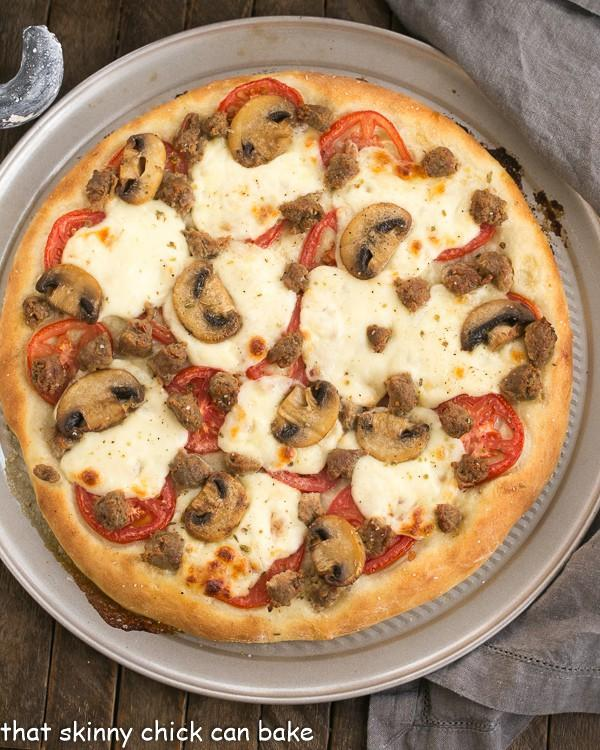champignon: (161, 254, 248, 347), (53, 365, 144, 440), (335, 204, 415, 288), (220, 92, 304, 171), (175, 473, 258, 549), (265, 378, 343, 453), (350, 404, 437, 471), (304, 511, 374, 594), (29, 259, 108, 324), (109, 130, 173, 208), (454, 298, 542, 353)
